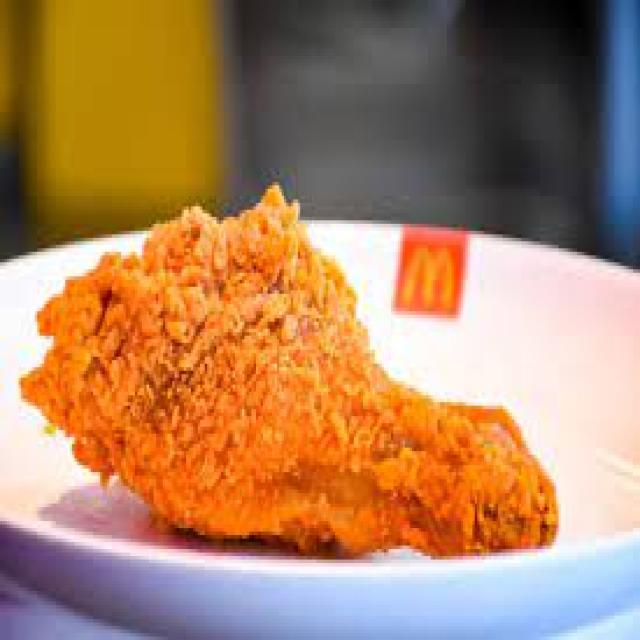Frango: (21, 178, 563, 560)
